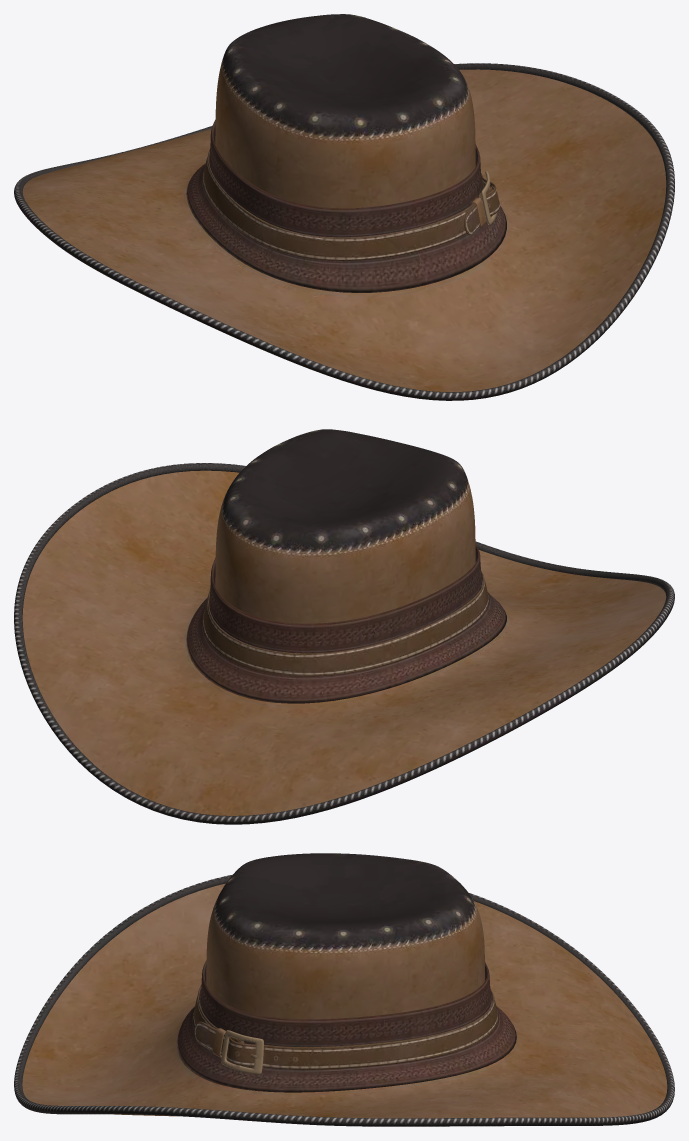
Rendered from Hat5.glb.
3 renders of one model, top to bottom at view 1: azimuth 30°, elevation 25°; view 2: azimuth 150°, elevation 25°; view 3: azimuth 270°, elevation 25°, orthographic. The views are drawn at different scales.
Parts seen in each view (by area): view 1: Hat.002; view 2: Hat.002; view 3: Hat.002.
Boxes of the visible parts, bbox=[...] form: Hat.002: bbox=[14, 14, 674, 400]; Hat.002: bbox=[14, 429, 674, 824]; Hat.002: bbox=[14, 853, 674, 1126].
Size of the model in its own units: 1.37 by 0.4957 by 1.47.
Materials: 1 (1 with a texture image).
